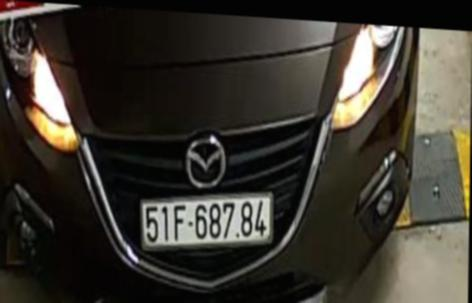License_Plate: (125, 180, 285, 267)
